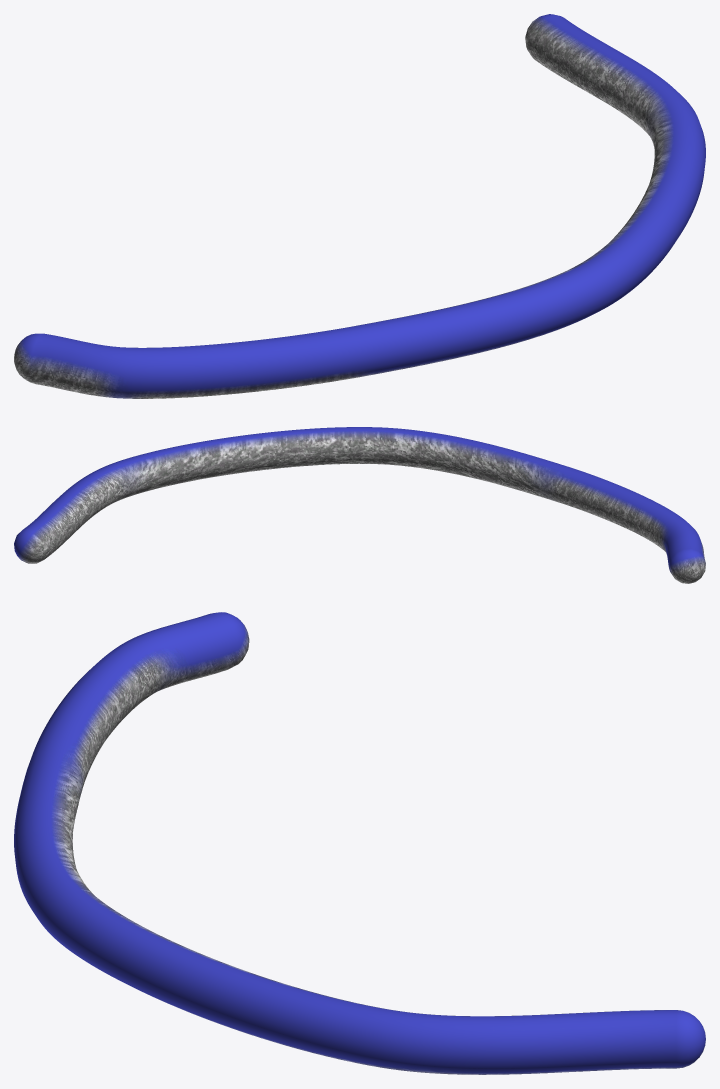
The model's file is CurvedTube1.fbx.
3 renders of one model, top to bottom at view 1: azimuth 30°, elevation 25°; view 2: azimuth 150°, elevation 25°; view 3: azimuth 270°, elevation 25°, orthographic. The views are drawn at different scales.
Parts seen in each view (by area): view 1: root; view 2: root; view 3: root.
Boxes of the visible parts, x1,y1,x2,y2 form: root: (14, 14, 705, 398); root: (14, 427, 705, 583); root: (14, 612, 705, 1074).
Bounding box in the file's own units: 1.03 × 0.0593 × 0.702.
Materials: 1 (1 with a texture image).
